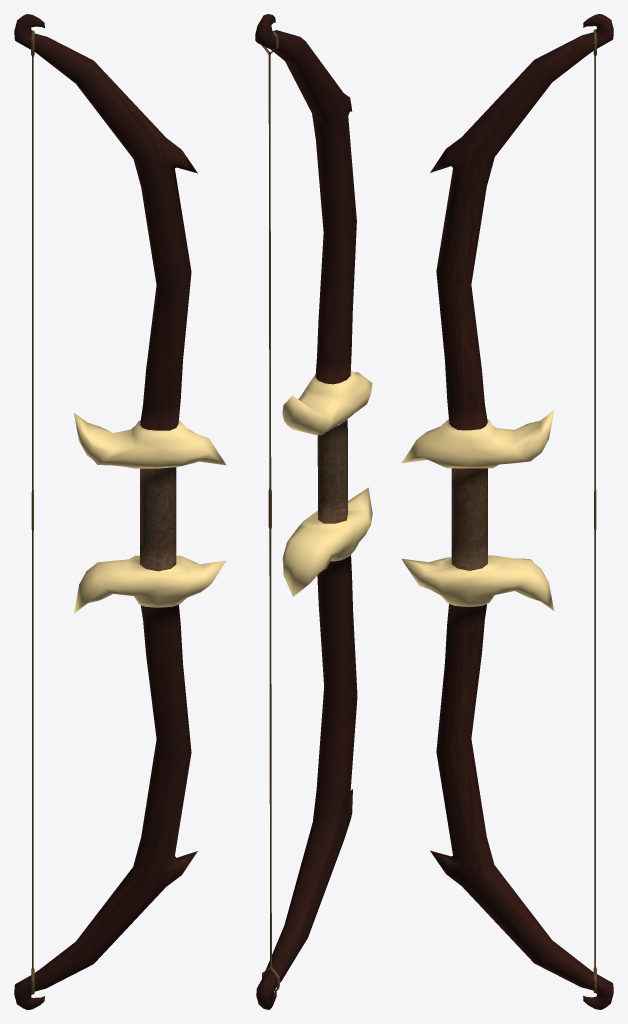
File: arcooo.glb
The picture shows the model from 3 angles, left to right: view 1: azimuth 90°, elevation 25°; view 2: azimuth 150°, elevation 25°; view 3: azimuth 270°, elevation 25°; orthographic projection.
Visible parts, largest first — view 1: Cube.001, Cilindro; view 2: Cube.001, Cilindro; view 3: Cube.001, Cilindro.
Boxes of the visible parts, left/top/right/bottom form: Cube.001: left=14, top=14, right=226, bottom=1009; Cilindro: left=31, top=30, right=34, bottom=994; Cube.001: left=255, top=14, right=372, bottom=1009; Cilindro: left=261, top=31, right=279, bottom=991; Cube.001: left=401, top=14, right=613, bottom=1009; Cilindro: left=593, top=29, right=596, bottom=993.
Size of the model in its own units: 0.2354 by 4.82 by 0.9333.
Materials: 3 (1 with a texture image).
